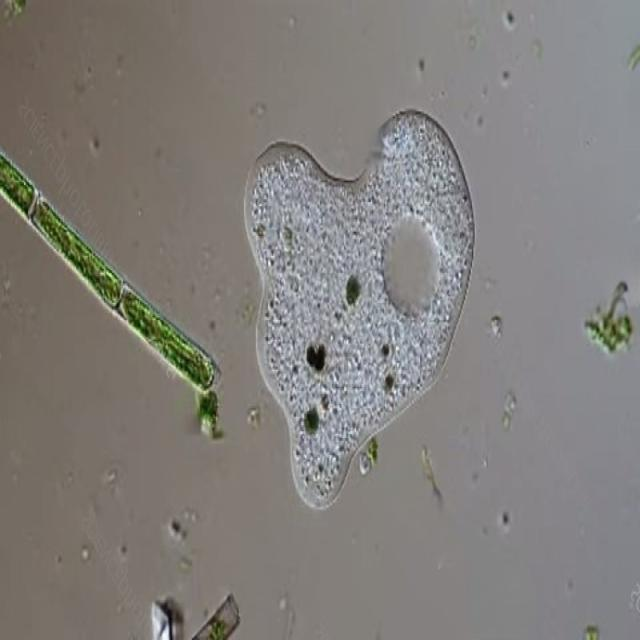Amoeba: (242, 110, 476, 514)
